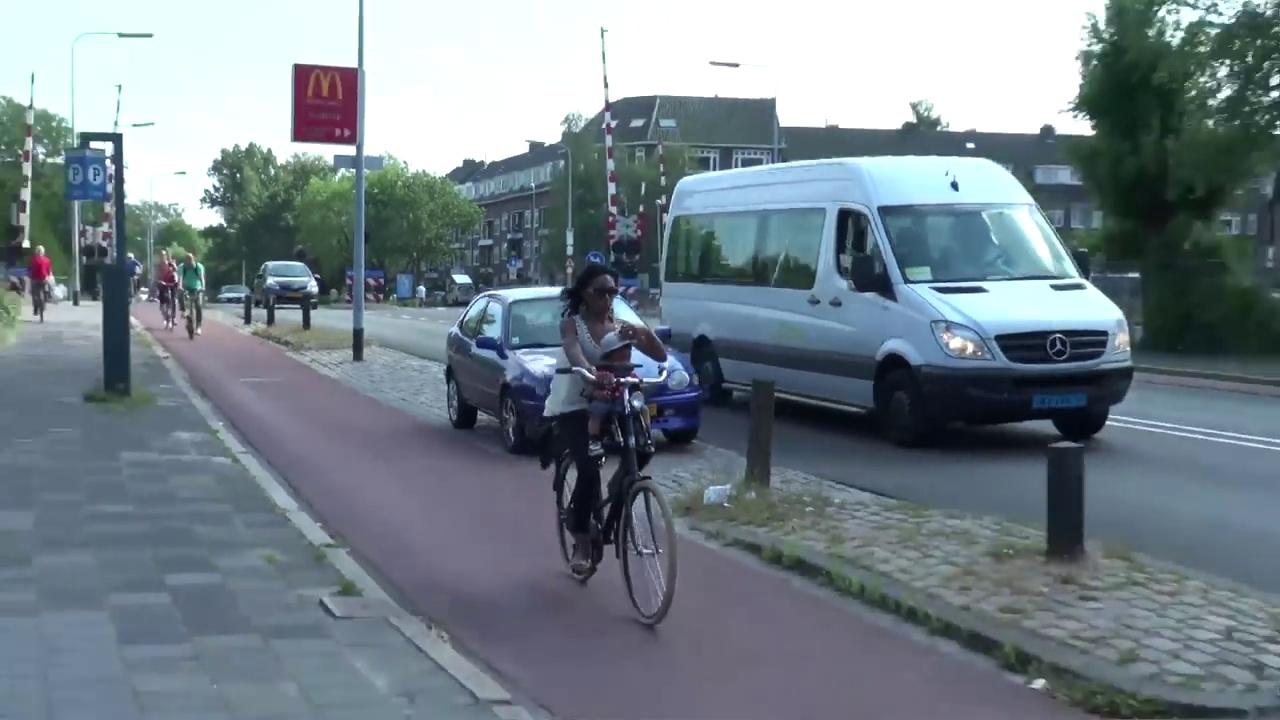cyclist_front: (537, 261, 692, 623), (179, 245, 212, 340), (149, 244, 181, 328)
